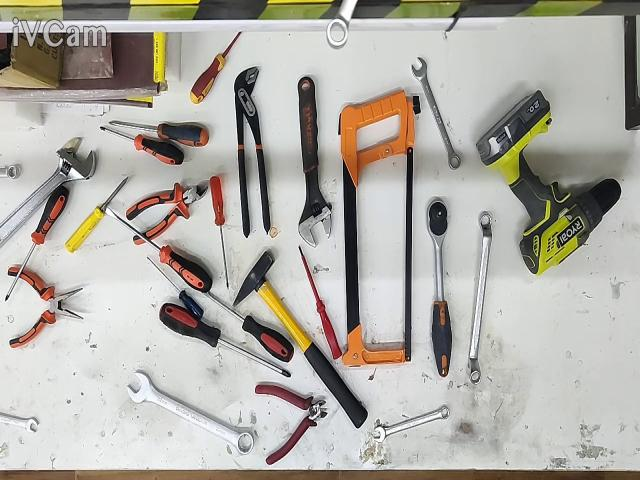Adjustable spanner: (0, 137, 96, 246), (298, 77, 331, 247)
Backsaw: (339, 90, 420, 367)
Cutting pliers: (255, 385, 328, 466), (125, 182, 208, 245)
Drill: (476, 90, 621, 274)
Gas wrench: (234, 67, 271, 237)
Hammer: (232, 252, 368, 428)
Needle-nose pliers: (6, 267, 83, 348)
Ratchet: (428, 198, 451, 377)
Screwdriver: (159, 303, 290, 379), (105, 207, 213, 293), (4, 185, 69, 302), (199, 287, 294, 362), (299, 245, 344, 360), (64, 177, 128, 252), (190, 31, 242, 103), (146, 255, 202, 320), (98, 126, 184, 166), (108, 122, 209, 146), (209, 175, 229, 292)
Wrench: (126, 372, 254, 456), (411, 57, 461, 169), (468, 211, 493, 385), (374, 405, 450, 442), (326, 0, 358, 48), (0, 414, 38, 433), (0, 165, 20, 179)
